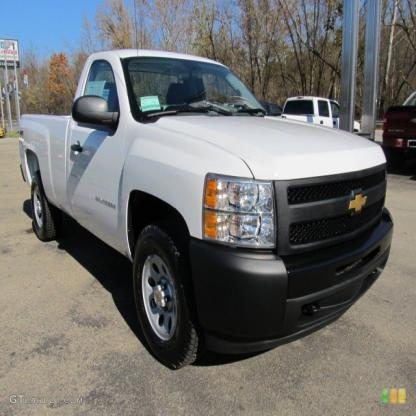Vehicle: (18, 47, 398, 370)
